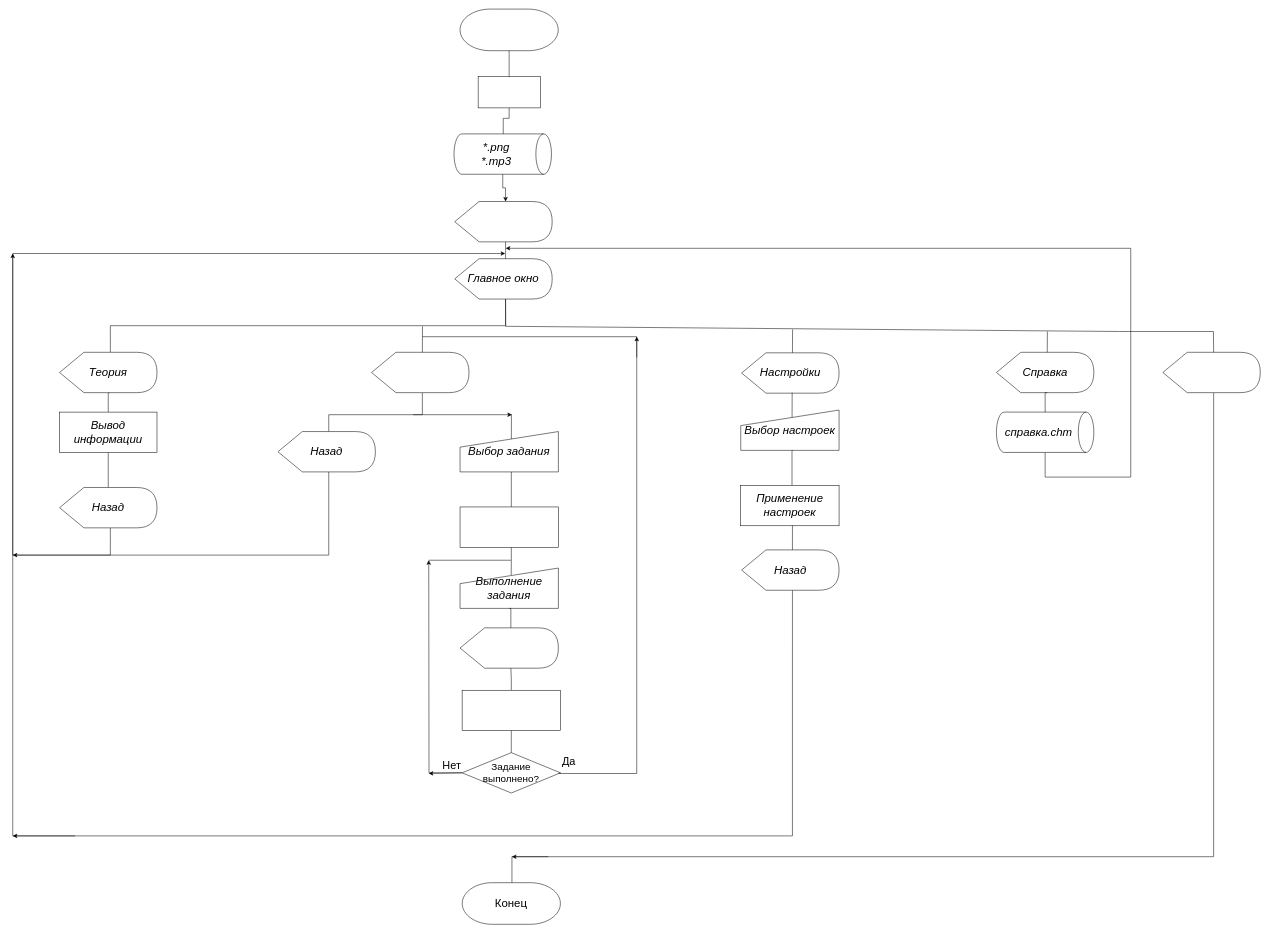
This 1270x933 diagram has some shape labels left out. The centre of each missing label's shape, as x and y in pixels:
"Выполнение пользовательской программы" goes at [511,710].
"выход" goes at [1211,372].
"Загрузка ресурсов" goes at [509,92].
"Запустить" goes at [509,647].
"Заставка" goes at [503,221].
"Начало" goes at [509,30].
"Переход на окно задания" goes at [509,526].
"Праткика" goes at [420,372].
